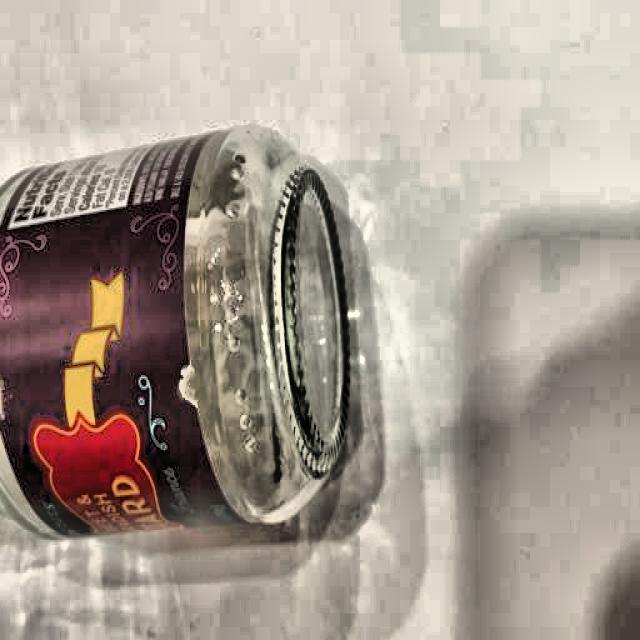glass: (0, 131, 355, 535)
